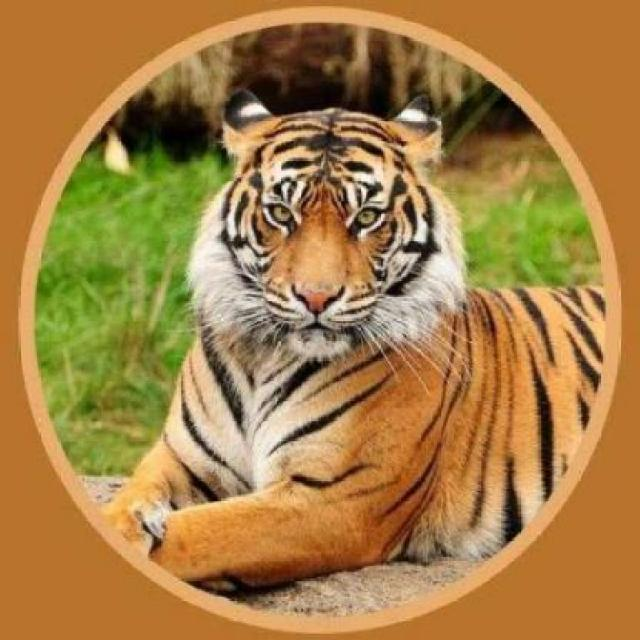Tiger: (90, 84, 584, 582)
